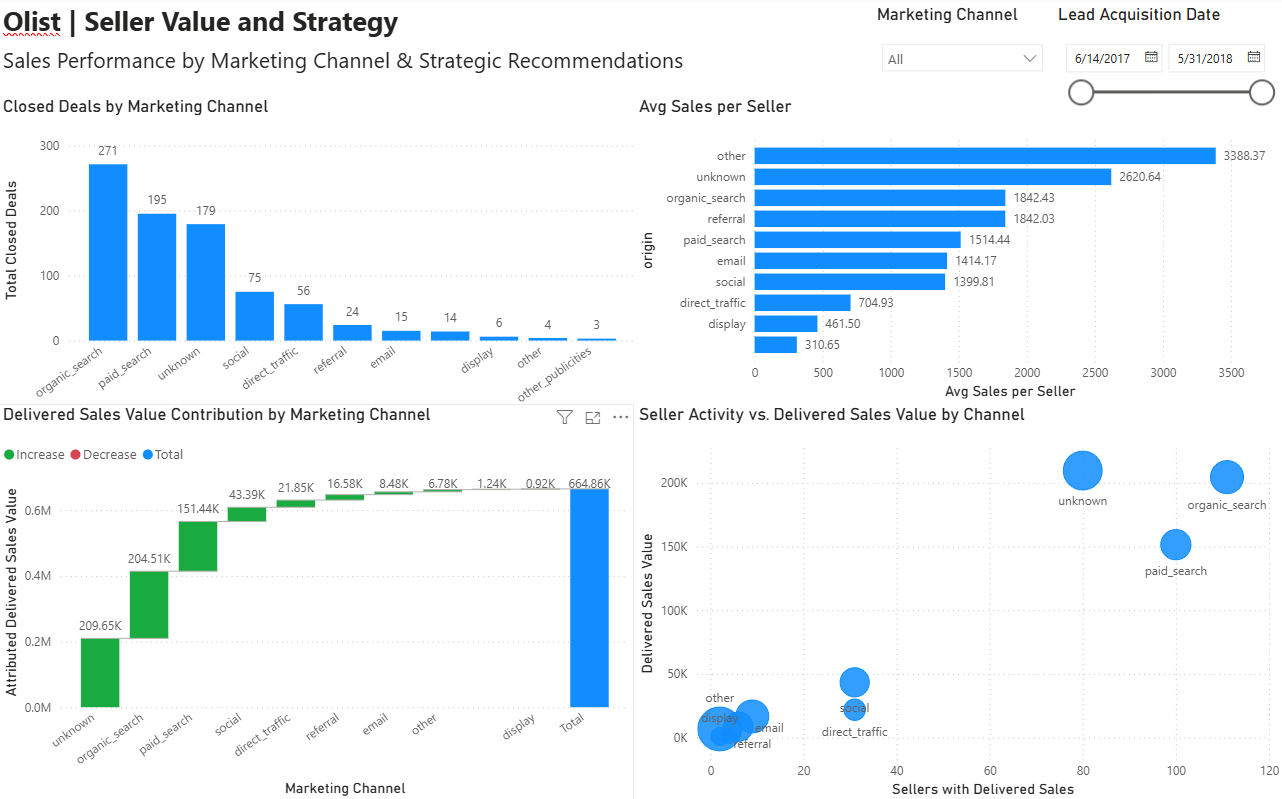

The page's visual inventory and layout, read from the dashboard file:
{"tool":"powerbi","page":{"name":"Seller Value and Strategy","canvas":[1280,800],"ordinal":2},"visuals":[{"type":"clusteredColumnChart","title":"Closed Deals by Marketing Channel","fields":{"Category":["olist_marketing marketing_qualified_leads.origin"],"Y":["olist_marketing marketing_qualified_leads.Total Closed Deals"]},"box":[0,98.2,640,342.4],"z":0},{"type":"textbox","box":[0,0,421.2,51.6],"z":1000},{"type":"textbox","box":[0,42.8,723.6,55.4],"z":2000},{"type":"clusteredBarChart","title":"Average Delivered Sales Value per Active Seller","fields":{"Category":["olist_marketing marketing_qualified_leads.origin"],"Y":["Table.Avg Sales per Seller"]},"box":[633.2,98.2,646.8,306.4],"z":3000},{"type":"waterfallChart","title":"Delivered Sales Value Contribution by Marketing Channel","fields":{"Category":["olist_marketing marketing_qualified_leads.origin"],"Y":["olist_marketing marketing_qualified_leads.Attributed Delivered Sales Value"]},"box":[0,405,632.8,395],"z":4000},{"type":"scatterChart","title":"Seller Activity vs. Delivered Sales Value by Channel","fields":{"Category":["olist_marketing marketing_qualified_leads.origin"],"X":["Table.Sellers with Delivered Sales"],"Y":["olist_marketing marketing_qualified_leads.Attributed Delivered Sales Value"],"Size":["Table.Avg Sales per Seller"]},"box":[632.8,405,646.8,396],"z":5000},{"type":"slicer","title":"Lead Acquisition Date","fields":{"Values":["olist_marketing marketing_qualified_leads.contact_date_clean"]},"box":[1049.8,7,229.5,106.3],"z":6000},{"type":"slicer","title":"Marketing Channel","fields":{"Values":["olist_marketing marketing_qualified_leads.origin"]},"box":[869.7,7,180,71.6],"z":7000}]}

Visuals, with their boxes in screenshot pixels (x1, y1, x2, y2), scaled from the page's 1280x800 canvas onto the 1282x799 screenshot:
"Closed Deals by Marketing Channel" clusteredColumnChart: Rect(0, 98, 641, 440)
textbox: Rect(0, 0, 422, 52)
textbox: Rect(0, 43, 725, 98)
"Average Delivered Sales Value per Active Seller" clusteredBarChart: Rect(634, 98, 1281, 404)
"Delivered Sales Value Contribution by Marketing Channel" waterfallChart: Rect(0, 404, 634, 798)
"Seller Activity vs. Delivered Sales Value by Channel" scatterChart: Rect(634, 404, 1281, 798)
"Lead Acquisition Date" slicer: Rect(1051, 7, 1281, 113)
"Marketing Channel" slicer: Rect(871, 7, 1051, 79)
